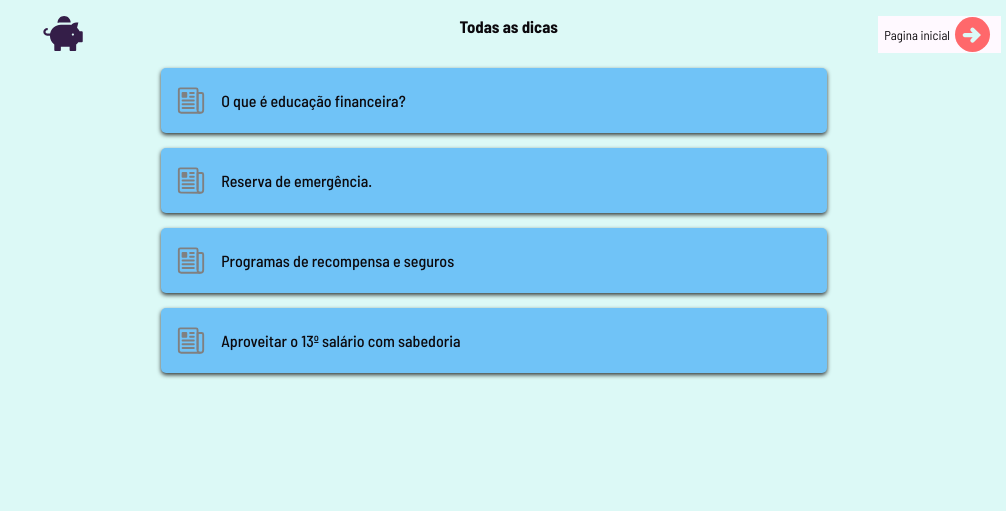
When everything is ok. › when the user clicks a button tipsOne it should render the article
The image size is (1006, 511).
Click the button with test id "tipsOne". click: (313, 100)
box: [161, 68, 827, 133]
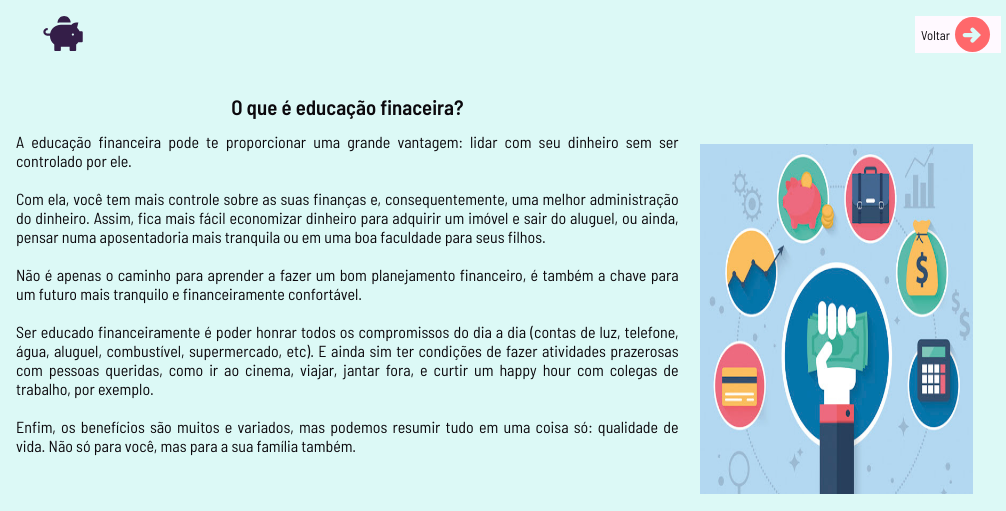
expect the heading "O que é educação finaceira?" is shown: met, box [231, 94, 463, 119]
